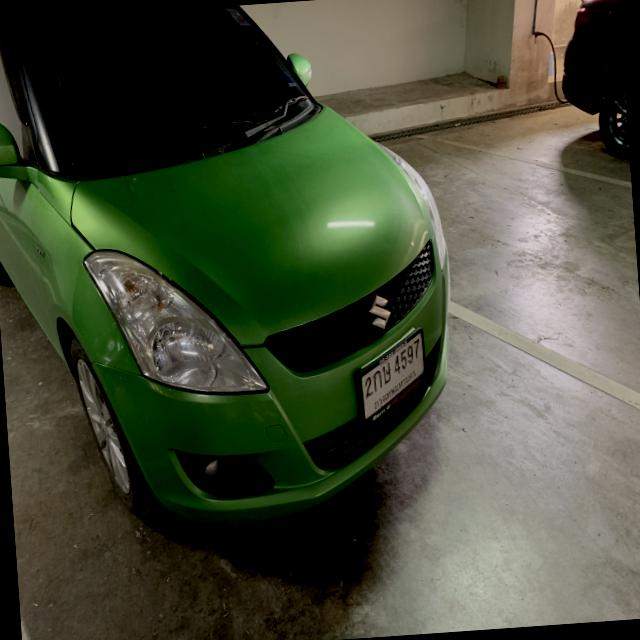license_plate: (350, 322, 435, 436)
